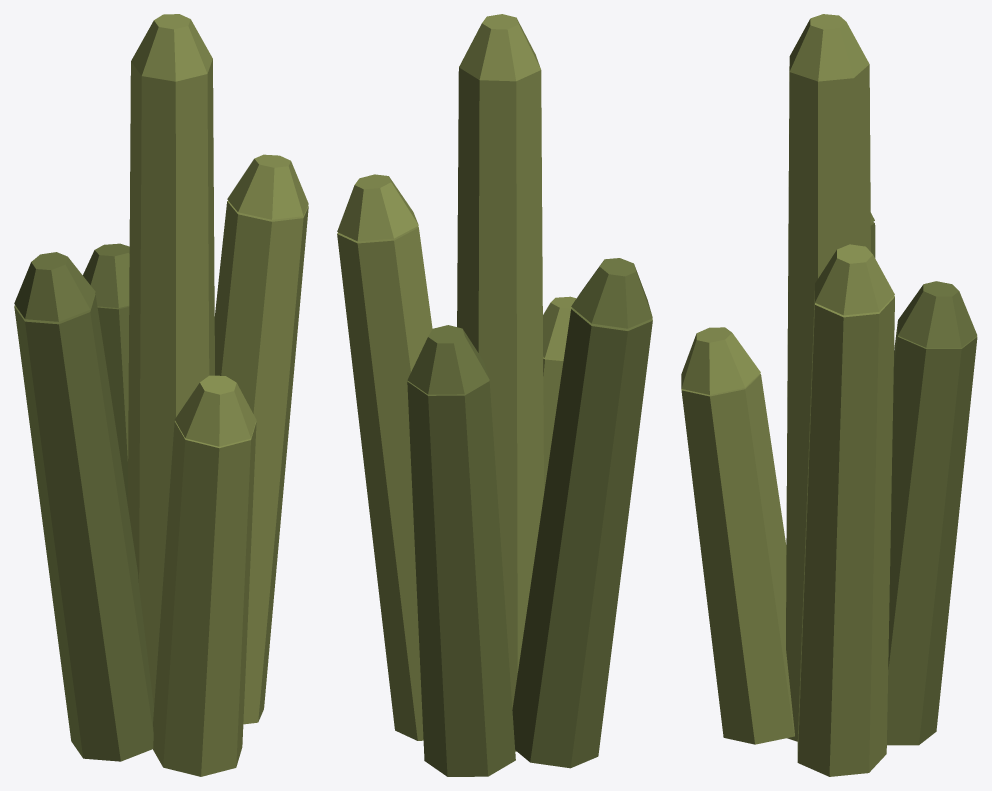
File: cactus.glb
3 renders of one model, left to right at view 1: azimuth 30°, elevation 25°; view 2: azimuth 150°, elevation 25°; view 3: azimuth 270°, elevation 25°, orthographic.
Parts seen in each view (by area): view 1: cactus; view 2: cactus; view 3: cactus.
Part boxes in pixels (x1,y1,x2,y2): cactus: [14, 14, 308, 776]; cactus: [337, 14, 652, 776]; cactus: [681, 14, 977, 776].
Size of the model in its own units: 0.4342 by 1.01 by 0.3793.
